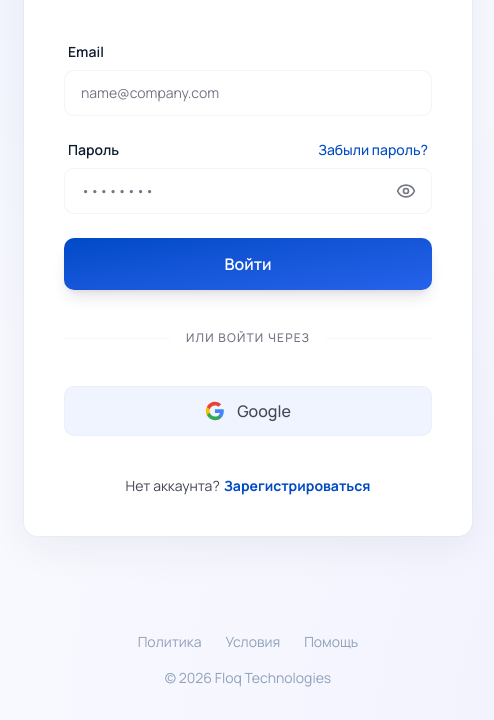
Test: LoginPage › can switch to register mode
The image size is (494, 720).
(page scrolled)
Click the button "Зарегистрироваться" at coordinates (297, 486), box [224,476,370,496]
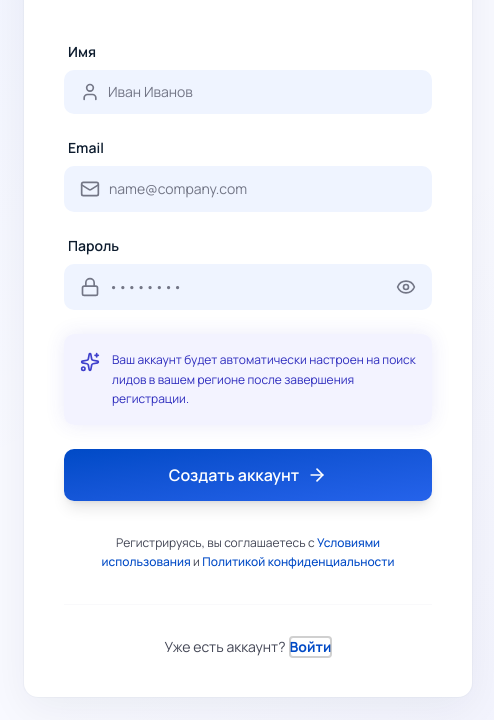
Expected: the field with placeholder "Иван Иванов" is shown, [64,70,432,114]
